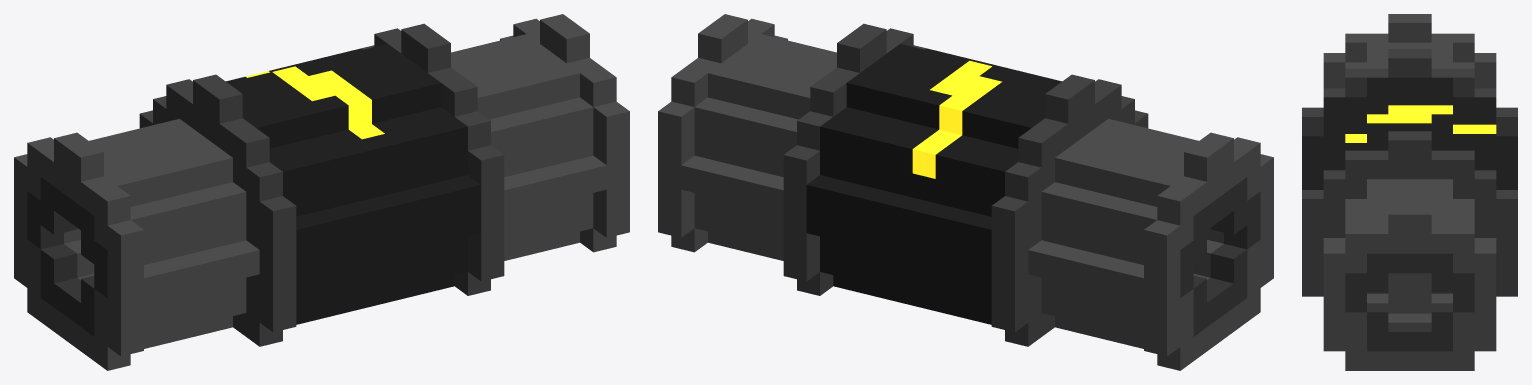
File: item_EXOTIC_ISAZ.glb
3 renders of one model, left to right at view 1: azimuth 30°, elevation 25°; view 2: azimuth 150°, elevation 25°; view 3: azimuth 270°, elevation 25°, orthographic. The views are drawn at different scales.
Visible parts, largest first — view 1: item_EXOTIC_ISAZ; view 2: item_EXOTIC_ISAZ; view 3: item_EXOTIC_ISAZ.
Boxes of the visible parts, x1,y1,x2,y2 form: item_EXOTIC_ISAZ: (14, 14, 629, 370); item_EXOTIC_ISAZ: (658, 14, 1273, 370); item_EXOTIC_ISAZ: (1302, 14, 1517, 370).
Bounding box in the file's own units: 0.5 × 0.2045 × 0.2273.
1 material, 1 textured.
